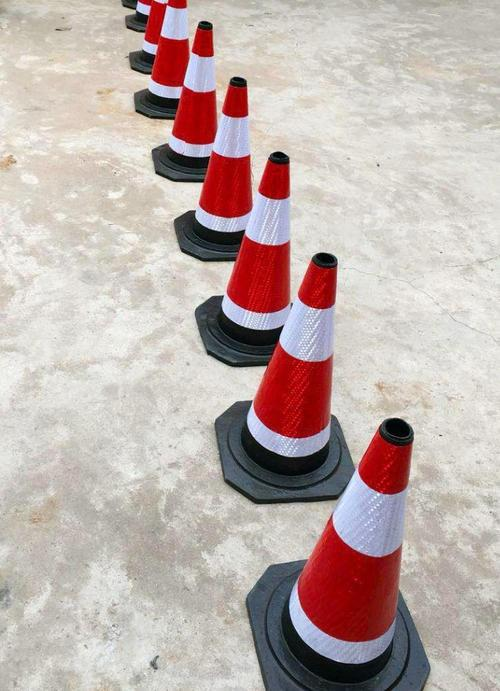cone_barrel: (273, 417, 433, 679), (229, 262, 355, 492), (211, 148, 304, 348), (184, 76, 257, 250), (160, 21, 223, 174), (133, 0, 191, 108)
